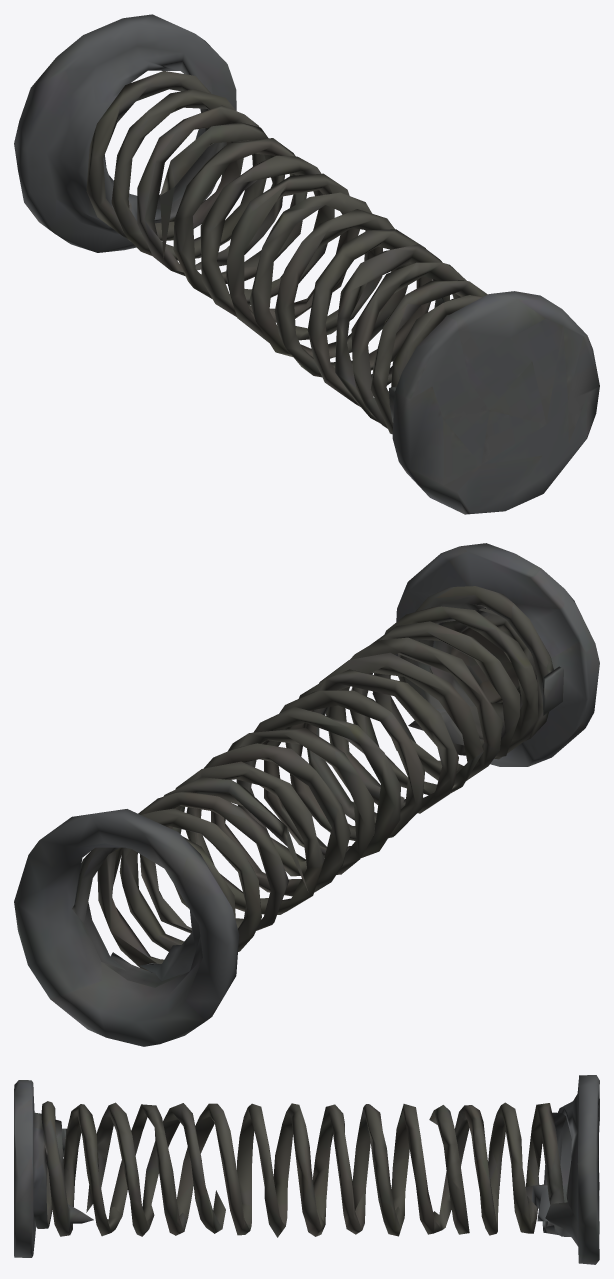
File: spring_coil_lod1.glb
The picture shows the model from 3 angles, top to bottom: view 1: azimuth 30°, elevation 25°; view 2: azimuth 150°, elevation 25°; view 3: azimuth 270°, elevation 25°; orthographic projection. The views are drawn at different scales.
Parts seen in each view (by area): view 1: spring_coil; view 2: spring_coil; view 3: spring_coil.
Boxes of the visible parts, <box> form: spring_coil: <box>14,14,599,514</box>; spring_coil: <box>14,543,599,1046</box>; spring_coil: <box>14,1075,599,1264</box>.
Bounding box in the file's own units: 0.0391 × 0.0391 × 0.1199.
1 material, 1 textured.
